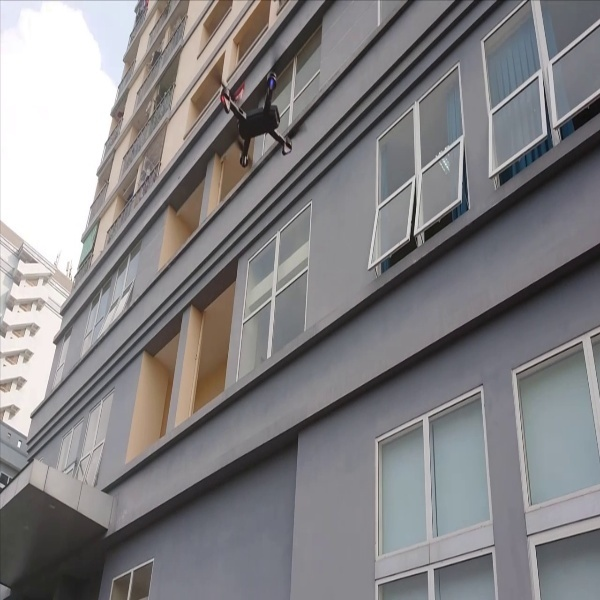drone: (209, 62, 305, 168)
